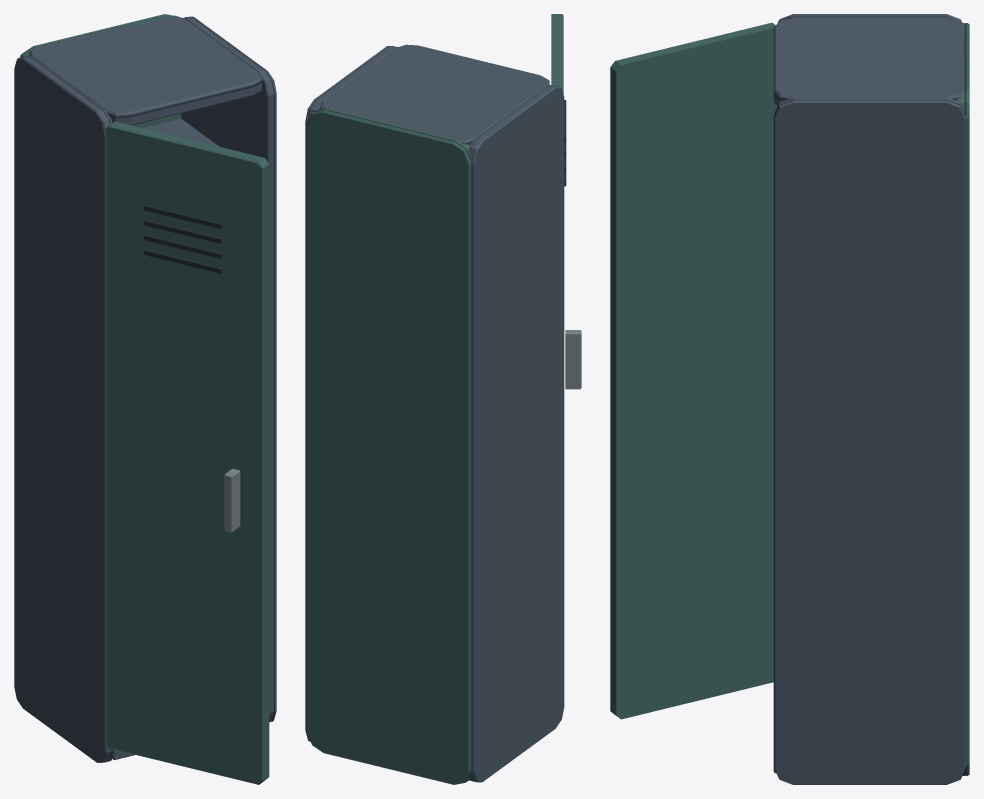
The model's file is R-11_open_locker.glb.
The picture shows the model from 3 angles, left to right: view 1: azimuth 30°, elevation 25°; view 2: azimuth 150°, elevation 25°; view 3: azimuth 270°, elevation 25°; orthographic projection. The views are drawn at different scales.
Parts seen in each view (by area): view 1: R-11_open_locker; view 2: R-11_open_locker; view 3: R-11_open_locker.
Boxes of the visible parts, <box> form: R-11_open_locker: <box>14,14,276,784</box>; R-11_open_locker: <box>305,14,581,784</box>; R-11_open_locker: <box>610,14,969,784</box>.
Size of the model in its own units: 0.509 by 1.84 by 0.8765.
